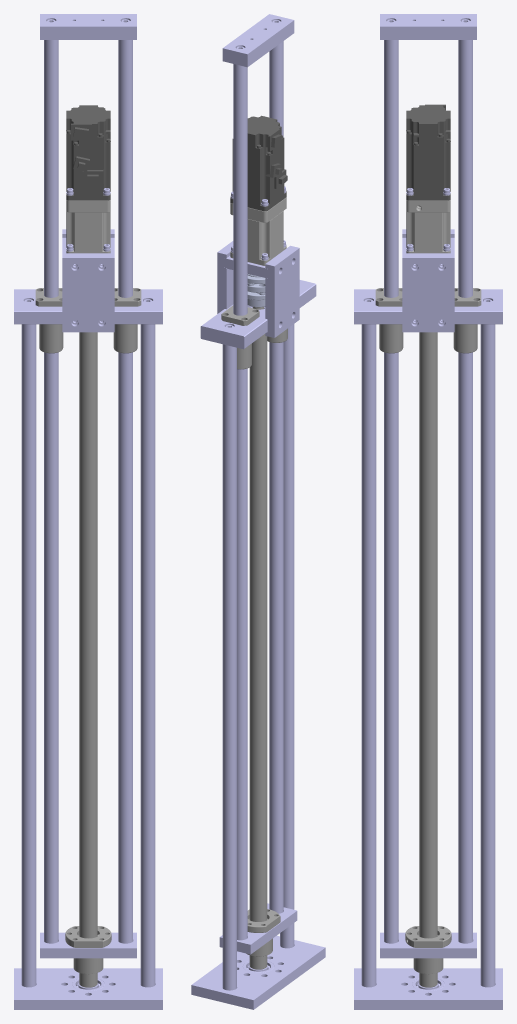
File: Z-Transfer.fbx
3 renders of one model, left to right at view 1: azimuth 90°, elevation 25°; view 2: azimuth 150°, elevation 25°; view 3: azimuth 270°, elevation 25°, orthographic. The views are drawn at different scales.
Visible parts, largest first — view 1: 54-04_Pi20X1250L001, 54-04_Pi20X1250L, BallScrewShaft_C-KBS2510-994L, 54-02_Pi20X1000L, 54-02_Pi20X1000L001, 54-01_200X100X15, 54-08_110X70X016, HG-KR23B, 54-03_200X70X15, 54-06_130X40X15, SPI(H)060 SERIES (1 STAGE-KA TYPE)_Shrinkwrap_1, 54-05_130X50X15 (+3 smaller); view 2: BallScrewShaft_C-KBS2510-994L, 54-04_Pi20X1250L001, 54-04_Pi20X1250L, 54-02_Pi20X1000L001, 54-02_Pi20X1000L, 54-01_200X100X15, HG-KR23B, 54-08_110X70X016, 54-06_130X40X15, SPI(H)060 SERIES (1 STAGE-KA TYPE)_Shrinkwrap_1, 54-03_200X70X15, 54-05_130X50X15 (+5 smaller); view 3: 54-04_Pi20X1250L, 54-04_Pi20X1250L001, BallScrewShaft_C-KBS2510-994L, 54-02_Pi20X1000L, 54-02_Pi20X1000L001, 54-01_200X100X15, 54-08_110X70X15, HG-KR23B, 54-03_200X70X15, 54-06_130X40X15, SPI(H)060 SERIES (1 STAGE-KA TYPE)_Shrinkwrap_1, 54-05_130X50X15 (+3 smaller).
Boxes of the visible parts, x1,y1,x2,y2 form: 54-04_Pi20X1250L001: (44, 40, 58, 943); 54-04_Pi20X1250L: (118, 40, 132, 943); BallScrewShaft_C-KBS2510-994L: (79, 332, 97, 987); 54-02_Pi20X1000L: (140, 324, 155, 987); 54-02_Pi20X1000L001: (21, 324, 36, 987); 54-01_200X100X15: (14, 968, 162, 1009); 54-08_110X70X016: (62, 253, 114, 332); HG-KR23B: (66, 105, 110, 200); 54-03_200X70X15: (14, 289, 162, 324); 54-06_130X40X15: (40, 14, 136, 39); SPI(H)060 SERIES (1 STAGE-KA TYPE)_Shrinkwrap_1: (66, 200, 110, 253); 54-05_130X50X15: (40, 932, 136, 958); BallScrewShaft_C-KBS2510-994L: (249, 307, 267, 969); 54-04_Pi20X1250L001: (233, 64, 247, 940); 54-04_Pi20X1250L: (269, 41, 283, 913); 54-02_Pi20X1000L001: (222, 344, 236, 990); 54-02_Pi20X1000L: (280, 324, 294, 948); 54-01_200X100X15: (191, 935, 325, 1009); HG-KR23B: (230, 115, 287, 211); 54-08_110X70X016: (265, 245, 299, 337); 54-06_130X40X15: (222, 14, 294, 67); SPI(H)060 SERIES (1 STAGE-KA TYPE)_Shrinkwrap_1: (230, 197, 286, 265); 54-03_200X70X15: (200, 280, 316, 349); 54-05_130X50X15: (219, 903, 297, 954); 54-04_Pi20X1250L: (384, 40, 398, 943); 54-04_Pi20X1250L001: (458, 40, 472, 943); BallScrewShaft_C-KBS2510-994L: (419, 332, 437, 987); 54-02_Pi20X1000L: (361, 324, 376, 987); 54-02_Pi20X1000L001: (480, 324, 495, 987); 54-01_200X100X15: (354, 968, 502, 1009); 54-08_110X70X15: (402, 253, 454, 332); HG-KR23B: (406, 104, 450, 200); 54-03_200X70X15: (354, 289, 502, 324); 54-06_130X40X15: (380, 14, 476, 39); SPI(H)060 SERIES (1 STAGE-KA TYPE)_Shrinkwrap_1: (406, 200, 450, 253); 54-05_130X50X15: (380, 932, 476, 958).
Bounding box in the file's own units: 10 × 144 × 20.
